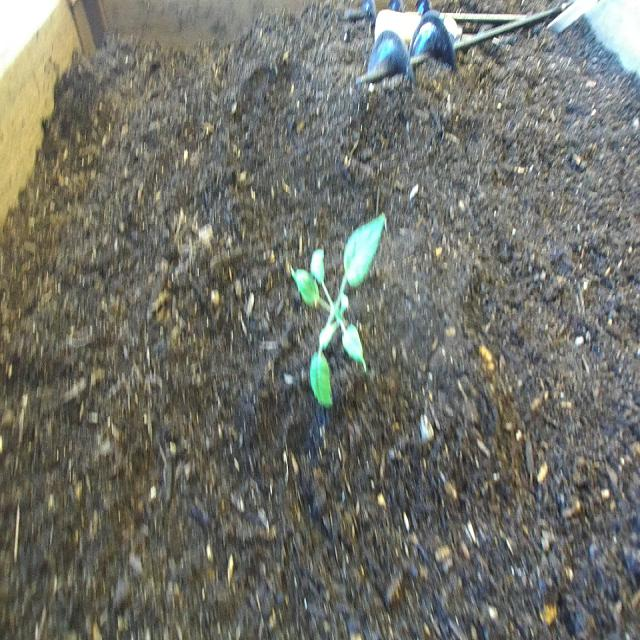Healthy: (282, 194, 389, 433)
